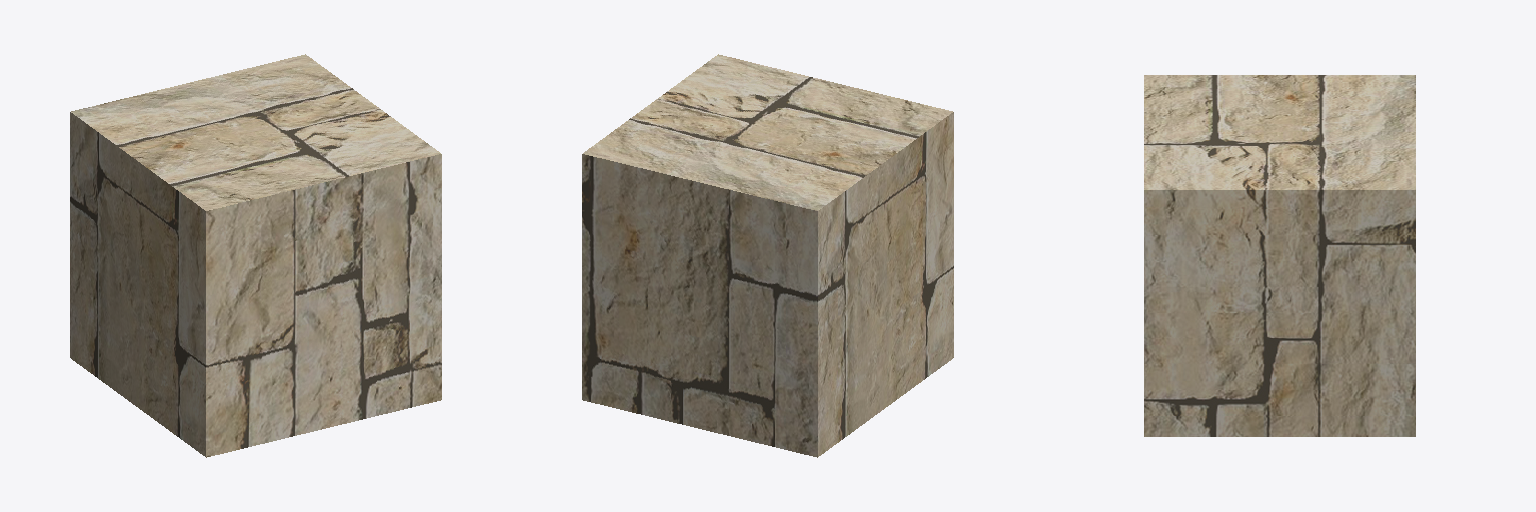
The picture shows the model from 3 angles: view 1: azimuth 30°, elevation 25°; view 2: azimuth 150°, elevation 25°; view 3: azimuth 270°, elevation 25°; orthographic projection.
Parts seen in each view (by area): view 1: Cube; view 2: Cube; view 3: Cube.
Boxes of the visible parts, <box> form: Cube: <box>70,54,441,457</box>; Cube: <box>582,54,953,457</box>; Cube: <box>1144,75,1415,436</box>.
Bounding box in the file's own units: 1 × 1 × 1.
1 materials, 1 textured.